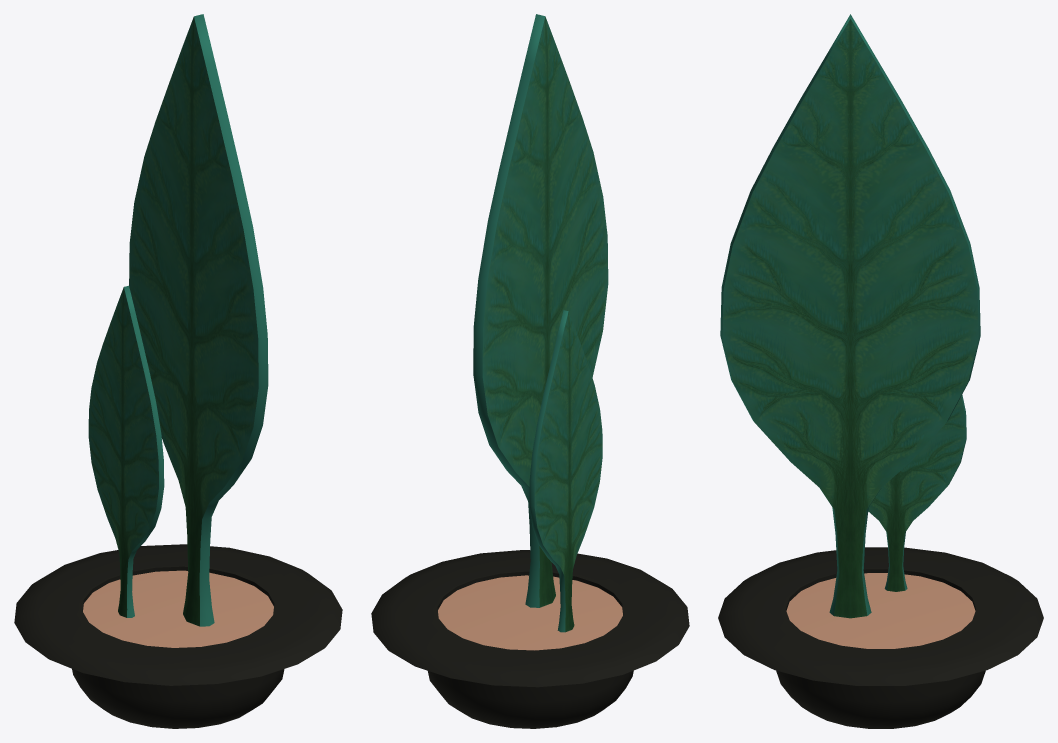
The model's file is OT_039_magritte_plants_var1_var2.glb.
3 views of the same model, side by side, from view 1: azimuth 30°, elevation 25°; view 2: azimuth 150°, elevation 25°; view 3: azimuth 270°, elevation 25° (orthographic). The views are drawn at different scales.
Visible parts, largest first — view 1: leaf_1, hat, leaf_2; view 2: leaf_1, hat, leaf_2; view 3: leaf_1, hat, leaf_2.
Boxes of the visible parts, x1,y1,x2,y2 form: leaf_1: (129,14,268,626); hat: (14,544,342,728); leaf_2: (88,285,164,617); leaf_1: (473,14,608,607); hat: (371,550,689,728); leaf_2: (529,310,602,632); leaf_1: (720,14,980,618); hat: (718,547,1043,728); leaf_2: (868,395,966,591).
Bounding box in the file's own units: 1.37 × 3.19 × 1.38.
Materials: 3 (1 with a texture image).
